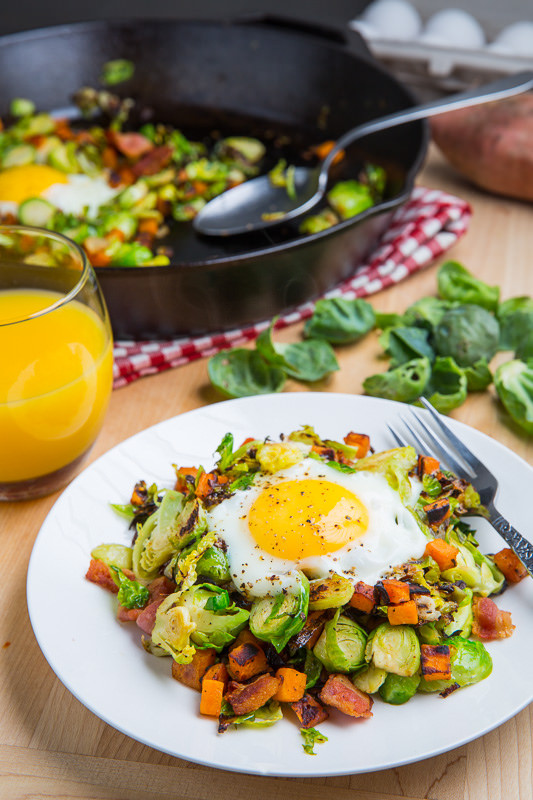fried egg: (220, 458, 408, 591)
